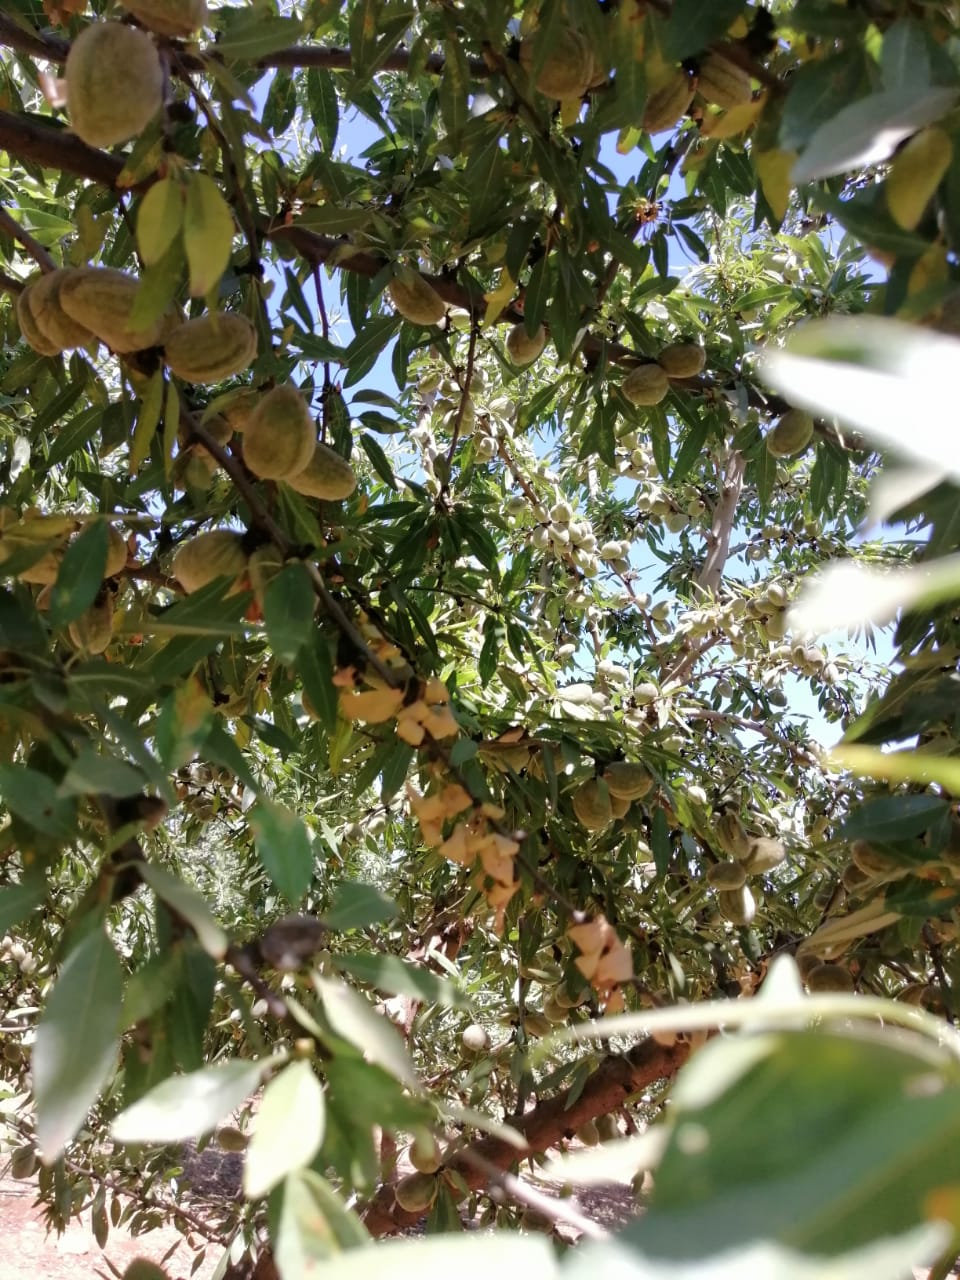chancre fusicocum: (333, 621, 637, 990)
